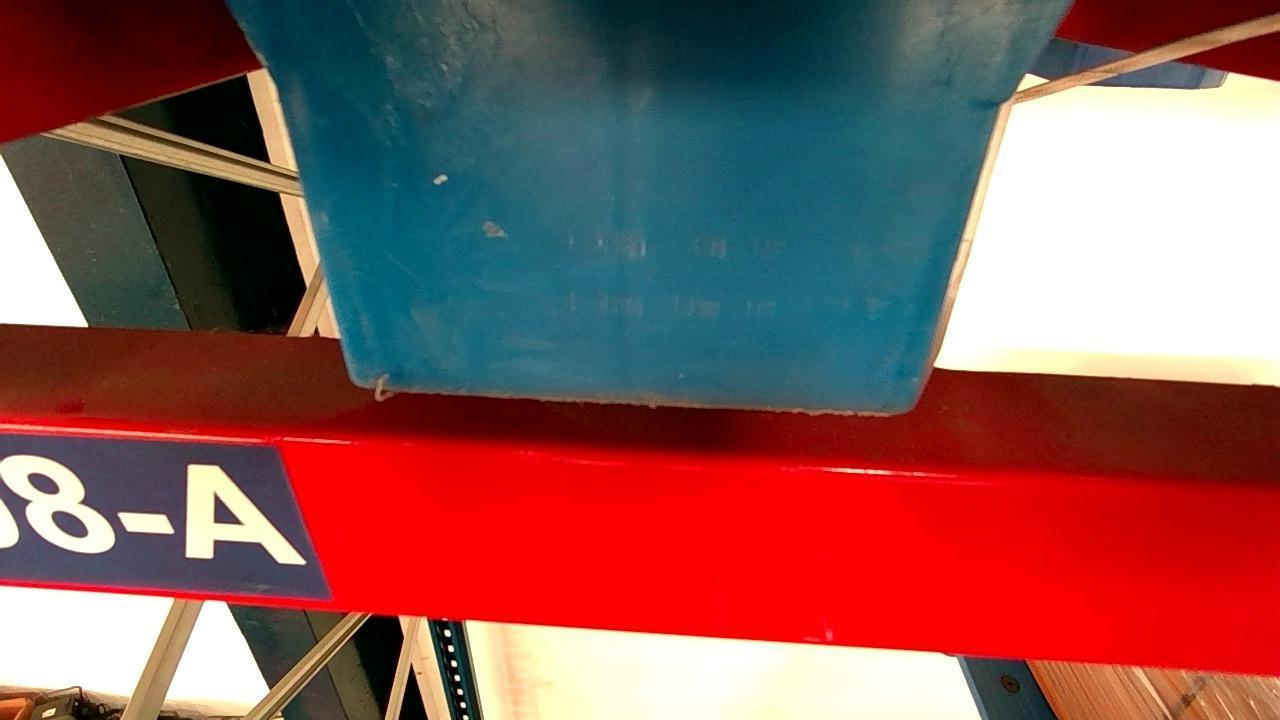h_rack: (0, 427, 1280, 676)
